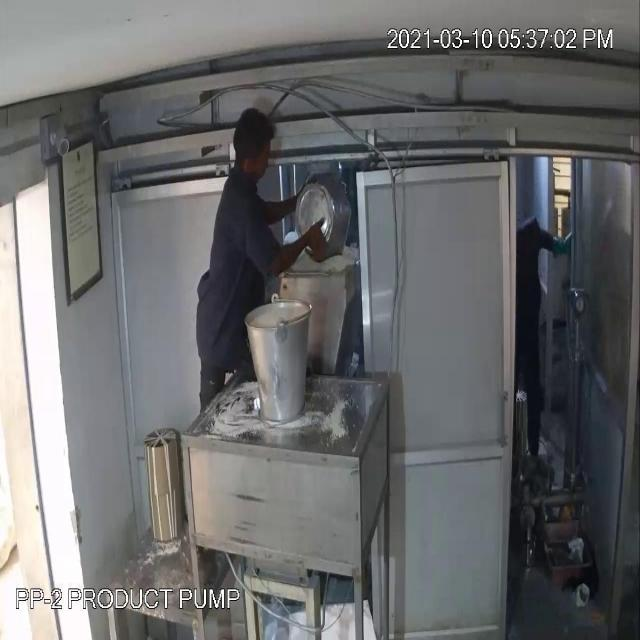No_Gloves: (60, 69, 302, 252)
